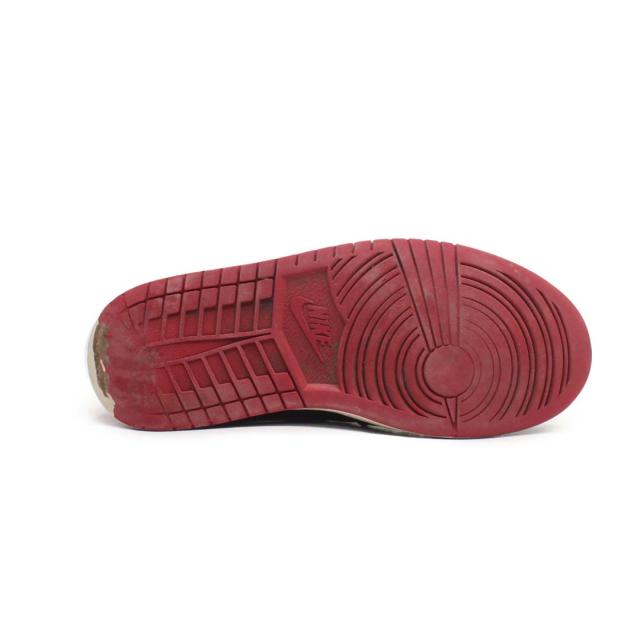outersole: (87, 240, 594, 443)
